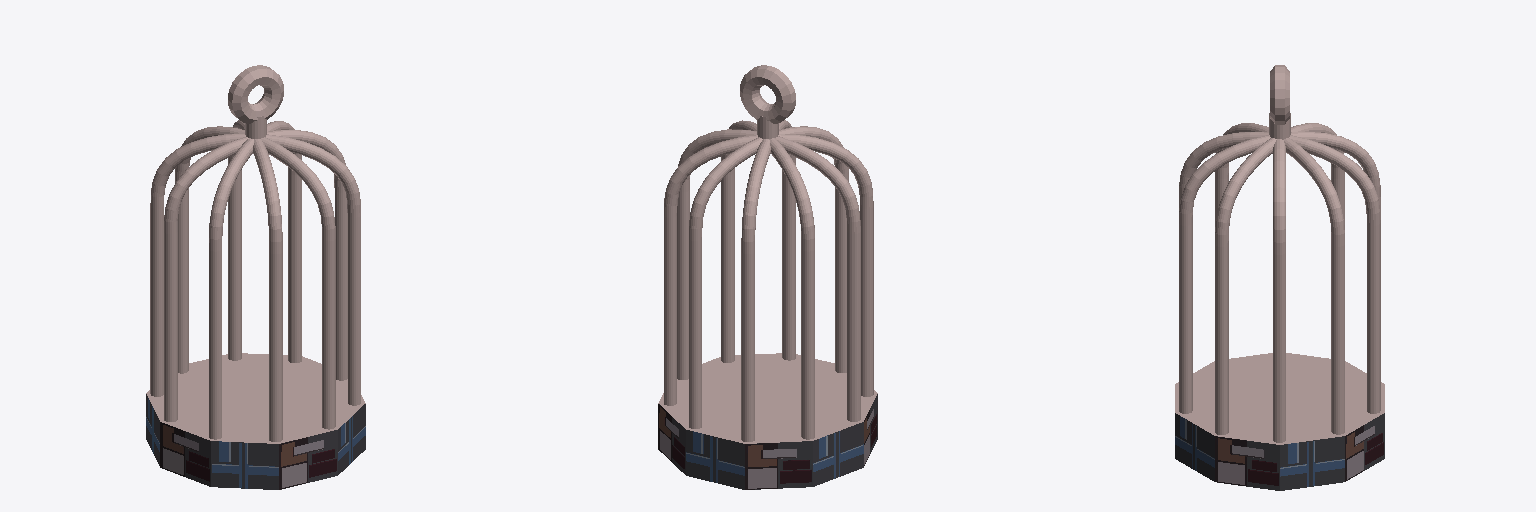
3 renders of one model, left to right at view 1: azimuth 30°, elevation 25°; view 2: azimuth 150°, elevation 25°; view 3: azimuth 270°, elevation 25°, orthographic.
Visible parts, largest first — view 1: pasted__pasted__group22_pasted__pasted__pasted__group20_pasted__; view 2: pasted__pasted__group22_pasted__pasted__pasted__group20_pasted__; view 3: pasted__pasted__group22_pasted__pasted__pasted__group20_pasted__.
Boxes of the visible parts, x1,y1,x2,y2 form: pasted__pasted__group22_pasted__pasted__pasted__group20_pasted__: [146, 65, 365, 489]; pasted__pasted__group22_pasted__pasted__pasted__group20_pasted__: [658, 65, 877, 489]; pasted__pasted__group22_pasted__pasted__pasted__group20_pasted__: [1175, 65, 1384, 490].
Bounding box in the file's own units: 2.83 × 5.35 × 2.7.
Materials: 3 (3 with a texture image).